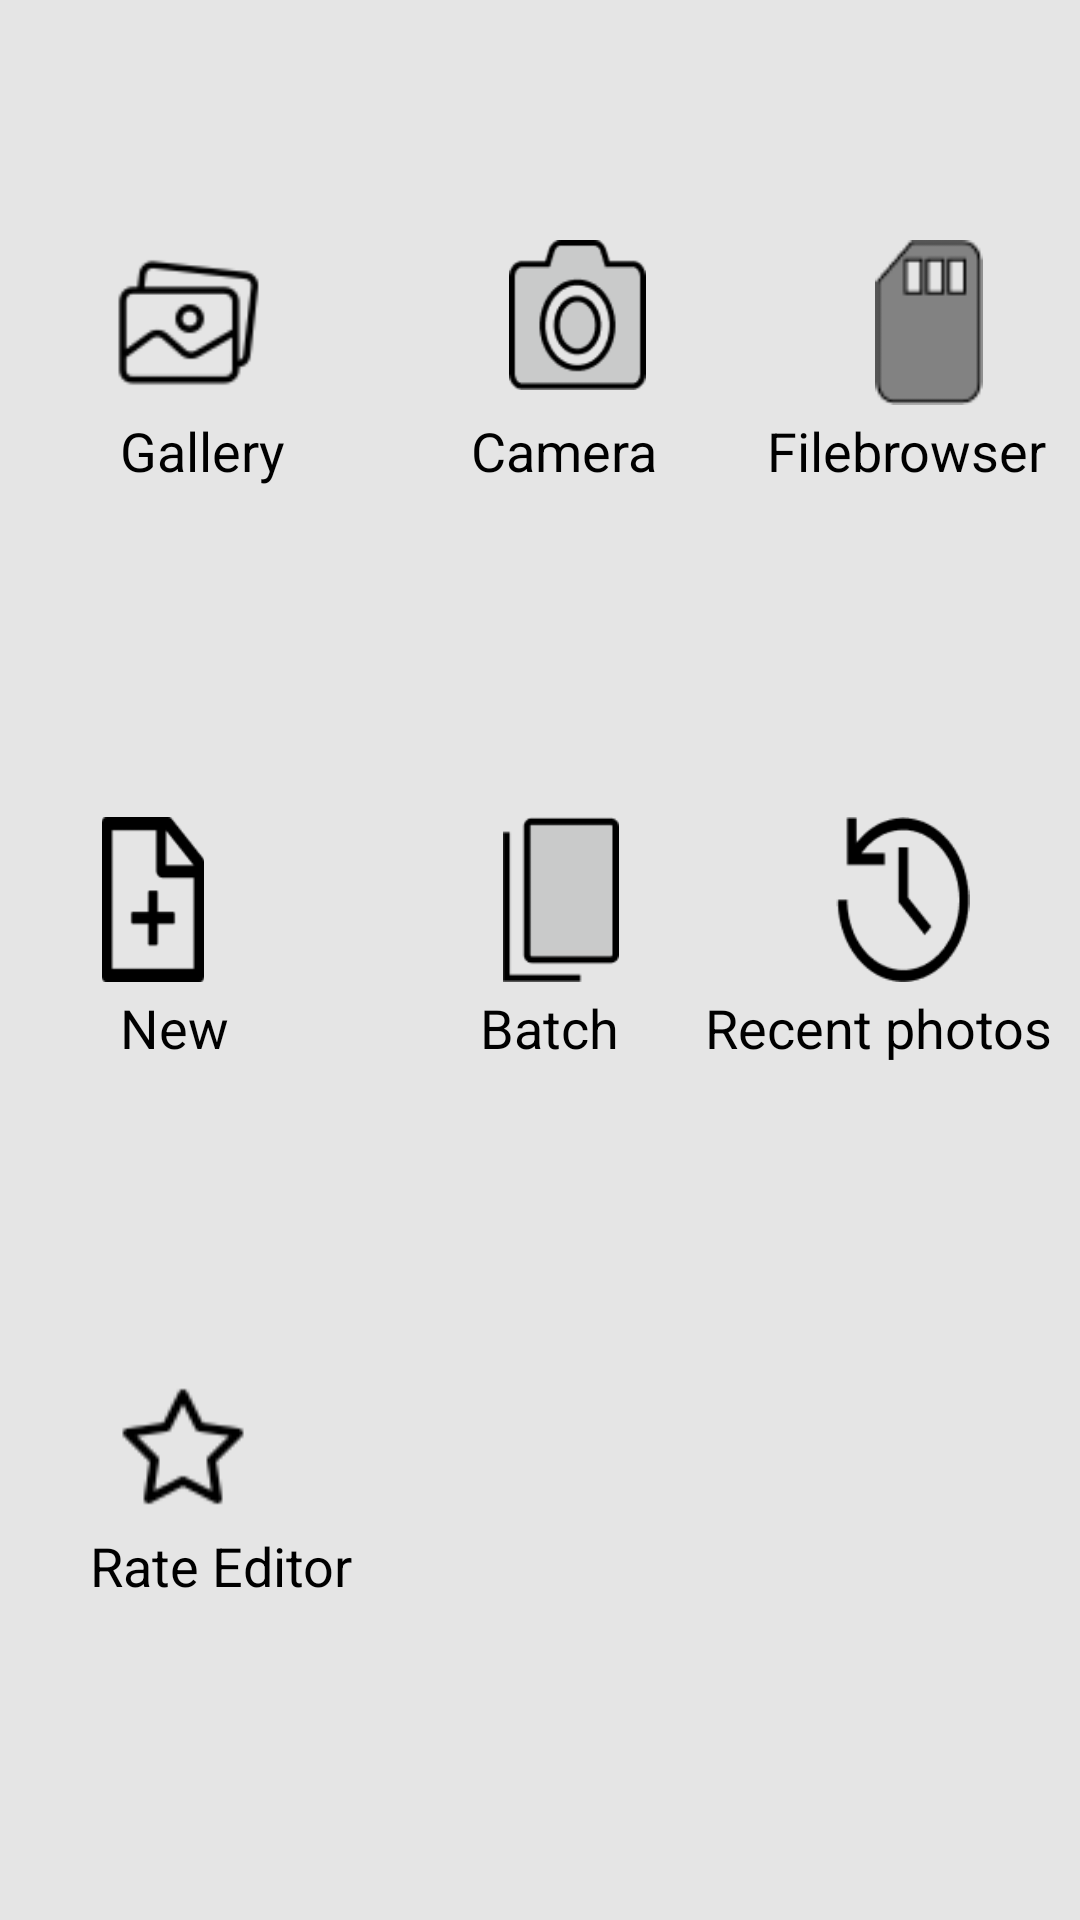

Locate icon controls on the screen. Image size 1080px×1920px, boxes as rect(x1, y1, x2, y2).
ggicon: rect(118, 260, 259, 385)
newfile: rect(102, 817, 204, 982)
recentphotoic: rect(836, 817, 970, 982)
